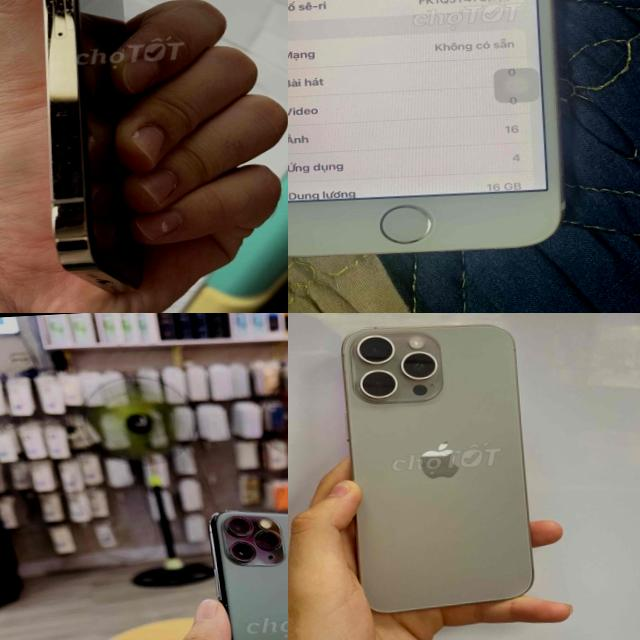gen_11: (210, 510, 288, 640)
gen_12_13: (15, 0, 164, 302)
gen_16: (342, 325, 533, 612)
gen_6: (288, 0, 561, 255)
